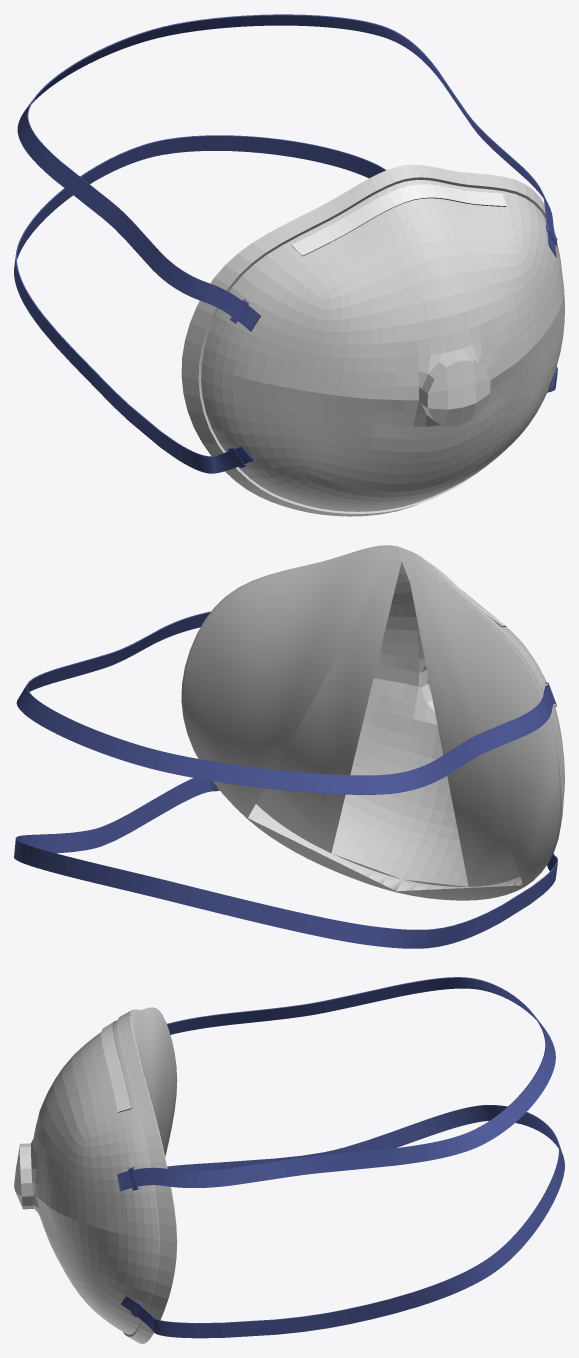
Rendered from masker.fbx.
3 views of the same model, one above another, from view 1: azimuth 30°, elevation 25°; view 2: azimuth 150°, elevation 25°; view 3: azimuth 270°, elevation 25° (orthographic). The views are drawn at different scales.
Visible parts, largest first — view 1: mainmask, strap, noseclip; view 2: mainmask, strap; view 3: mainmask, strap, noseclip.
Boxes of the visible parts, box(x1,y1,x2,y2) form: mainmask: box(181, 164, 564, 516); strap: box(14, 14, 557, 473); noseclip: box(291, 184, 506, 256); mainmask: box(181, 545, 564, 900); strap: box(14, 611, 557, 948); mainmask: box(14, 1007, 177, 1343); strap: box(117, 977, 564, 1338); noseclip: box(101, 1020, 131, 1112).
Bounding box in the file's own units: 910 × 762 × 1245.
4 materials, 3 textured.
